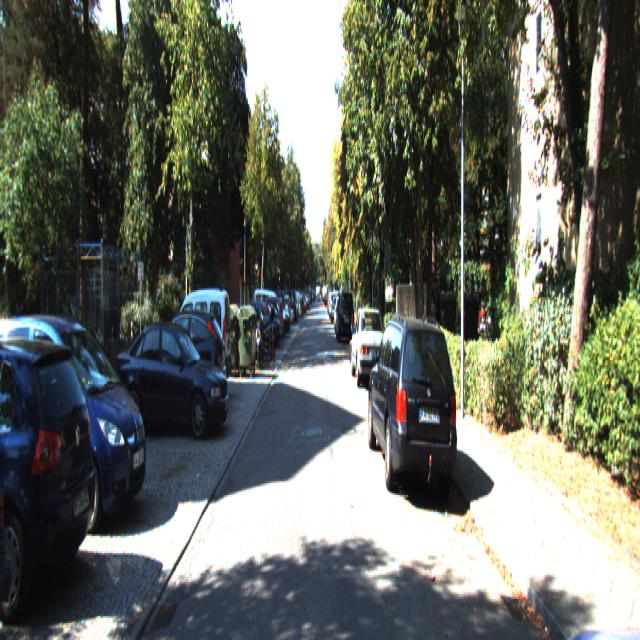Car: (0, 307, 150, 538), (0, 330, 103, 619), (366, 312, 460, 503), (116, 318, 232, 446), (140, 306, 227, 419), (165, 290, 232, 398), (349, 307, 389, 391), (232, 301, 272, 354), (335, 291, 354, 346)
